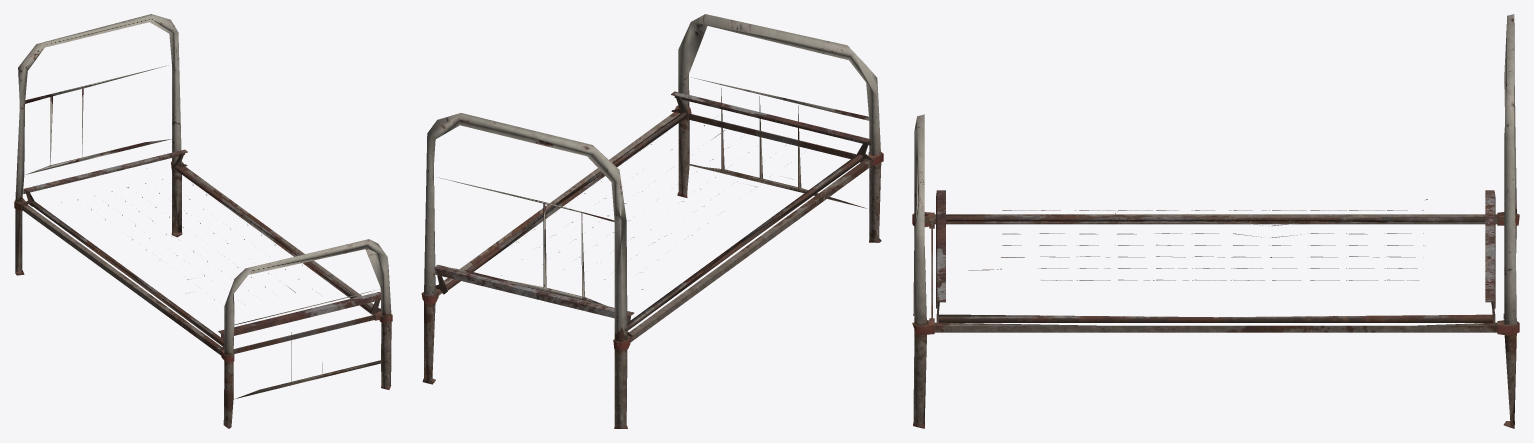
Rendered from old_bed_frame.glb.
3 views of the same model, side by side, from view 1: azimuth 30°, elevation 25°; view 2: azimuth 150°, elevation 25°; view 3: azimuth 270°, elevation 25° (orthographic). The views are drawn at different scales.
Parts seen in each view (by area): view 1: old_bed_frame; view 2: old_bed_frame; view 3: old_bed_frame.
Boxes of the visible parts, x1,y1,x2,y2 form: old_bed_frame: [14, 14, 392, 428]; old_bed_frame: [421, 14, 883, 428]; old_bed_frame: [912, 14, 1519, 428].
Bounding box in the file's own units: 0.9047 × 1.16 × 2.
Materials: 1 (1 with a texture image).
